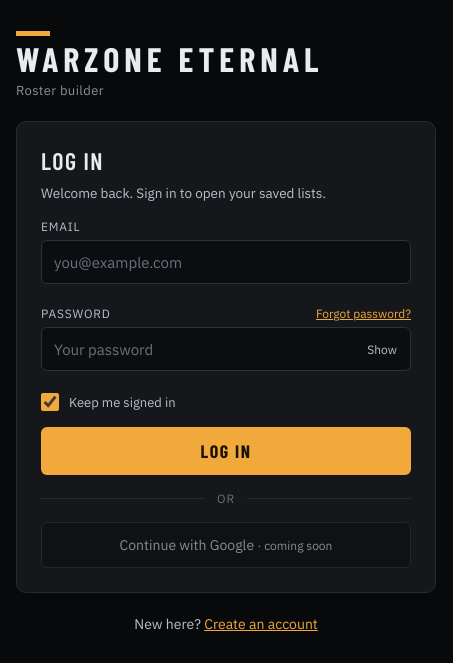
log in › validates empty fields inline
Click the button "Log in": (226, 451) [41,427,411,475]
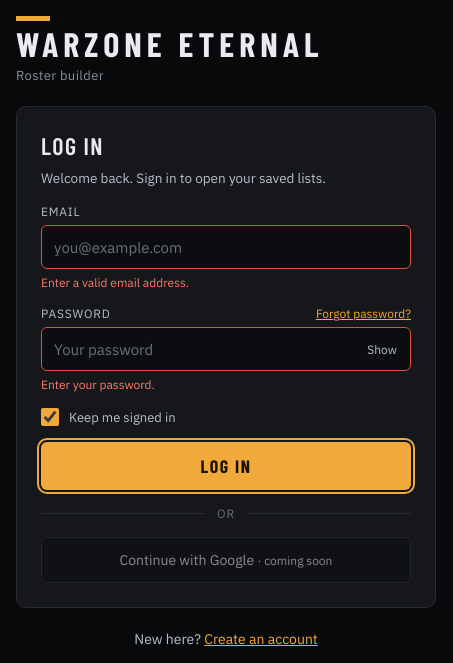
Expected: the text "Enter a valid email address." is shown, [41,275,189,290]
Expected: the text "Enter your password." is shown, [41,377,155,392]
